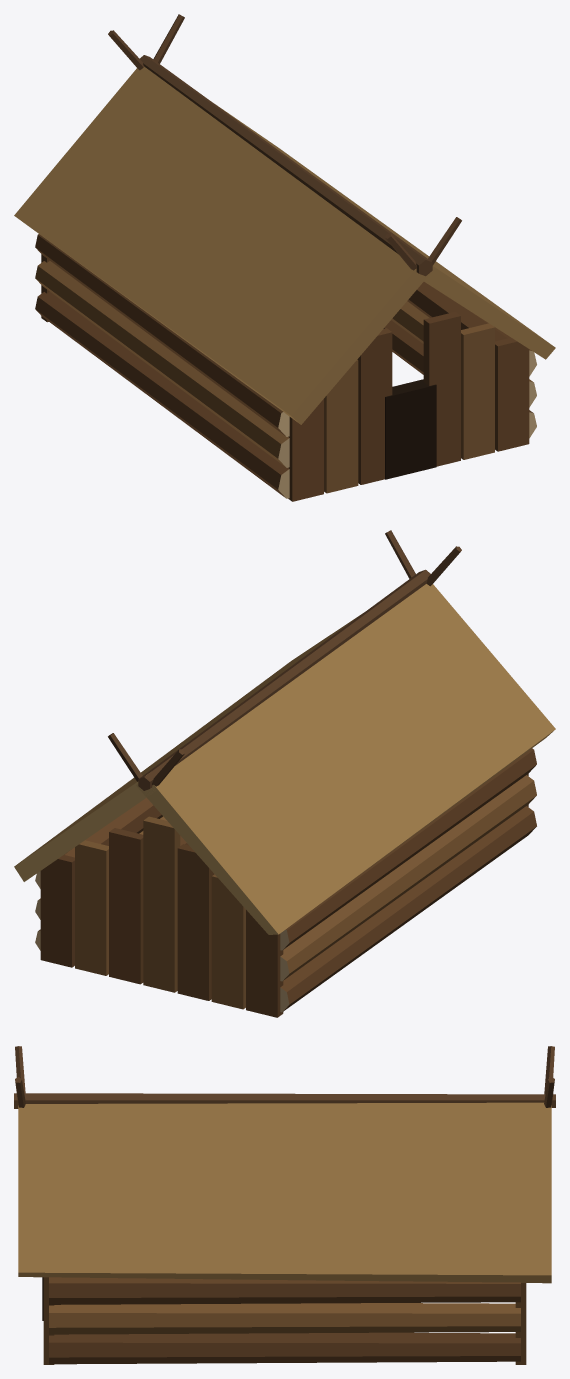
Rendered from longhouse.glb.
The picture shows the model from 3 angles, top to bottom: view 1: azimuth 30°, elevation 25°; view 2: azimuth 150°, elevation 25°; view 3: azimuth 270°, elevation 25°; orthographic projection. The views are drawn at different scales.
Parts seen in each view (by area): view 1: longhouse; view 2: longhouse; view 3: longhouse.
Boxes of the visible parts, left/top/right/bottom form: longhouse: left=14, top=14, right=555, bottom=501; longhouse: left=14, top=530, right=555, bottom=1017; longhouse: left=14, top=1046, right=555, bottom=1364.
Bounding box in the file's own units: 6.73 × 6.25 × 12.4.
